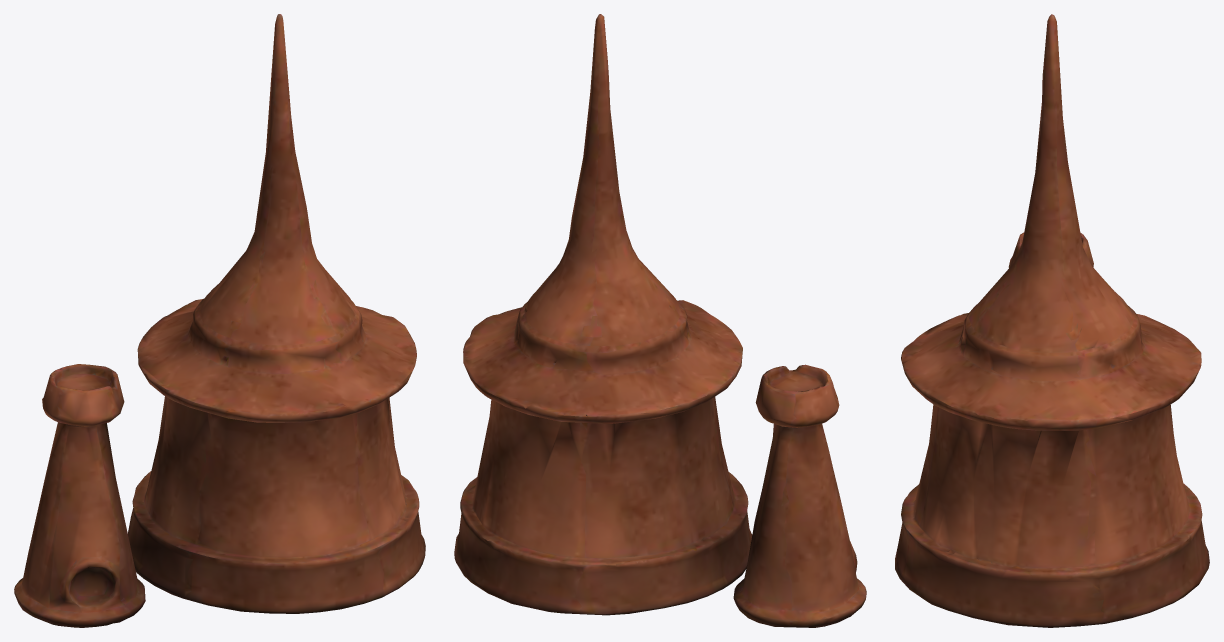
File: rustic-terracotta-turret-top-v001.glb
The picture shows the model from 3 angles, left to right: view 1: azimuth 30°, elevation 25°; view 2: azimuth 150°, elevation 25°; view 3: azimuth 270°, elevation 25°; orthographic projection. The views are drawn at different scales.
Parts seen in each view (by area): view 1: rustic-terracotta-turret-top; view 2: rustic-terracotta-turret-top; view 3: rustic-terracotta-turret-top.
Boxes of the visible parts, <box> form: rustic-terracotta-turret-top: <box>14,14,425,627</box>; rustic-terracotta-turret-top: <box>454,14,866,627</box>; rustic-terracotta-turret-top: <box>895,14,1209,627</box>.
Bounding box in the file's own units: 1.81 × 2.45 × 1.26.
1 material, 1 textured.
